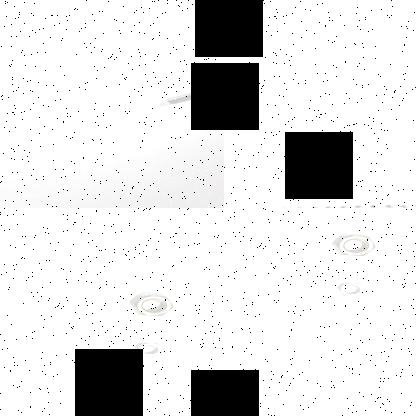Bolts: (158, 82, 218, 108)
NUTS: (117, 291, 188, 323), (323, 233, 385, 259), (326, 278, 376, 300), (130, 338, 172, 364)
